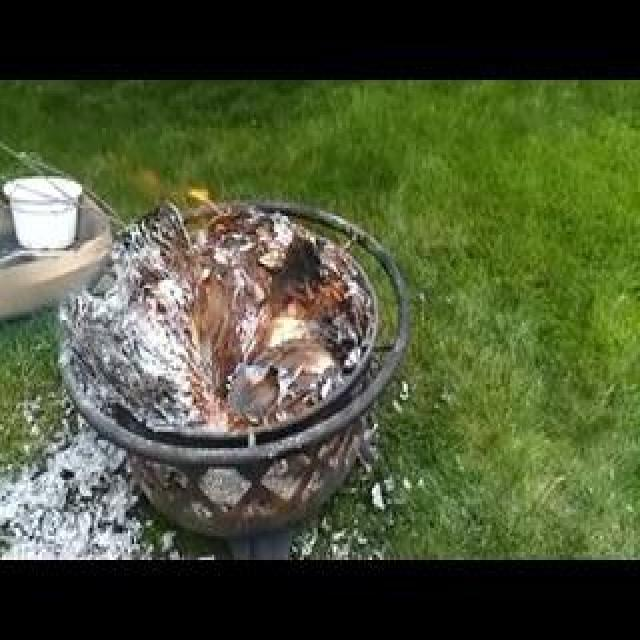Fire: (136, 160, 226, 360)
